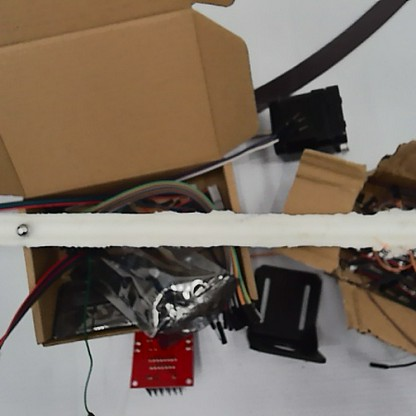ironball: (13, 220, 28, 238)
